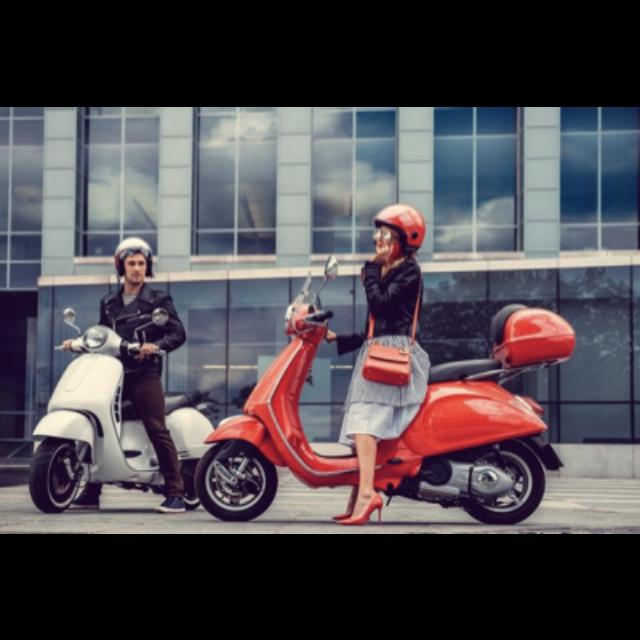With Helmet: (365, 197, 429, 261), (100, 232, 168, 284)
